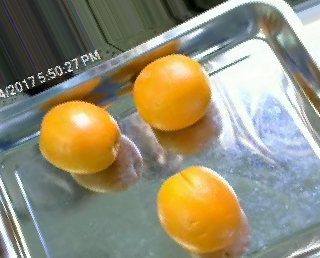Orange: (157, 165, 241, 253), (132, 53, 211, 131), (39, 100, 120, 175)
